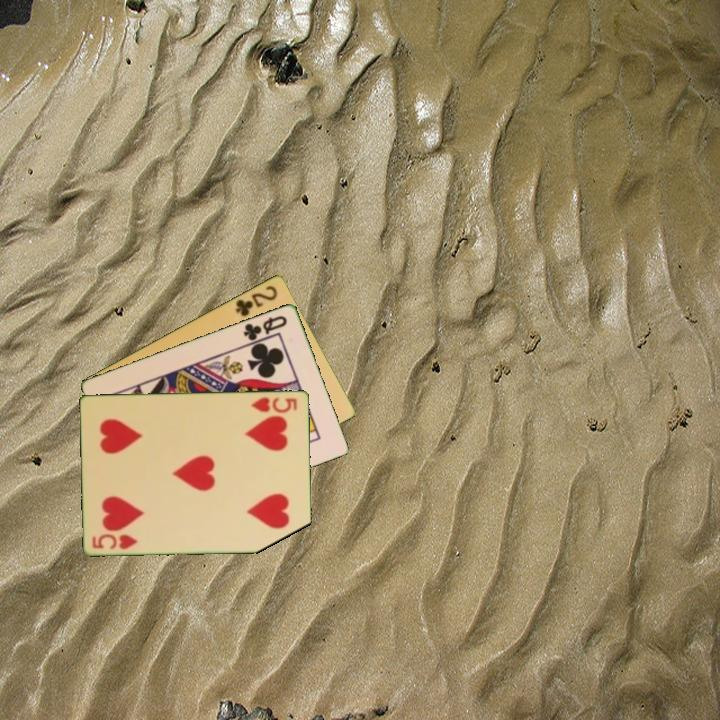2c: (232, 281, 280, 319)
5h: (248, 393, 300, 415), (89, 530, 141, 552)
Qc: (240, 312, 290, 343)
